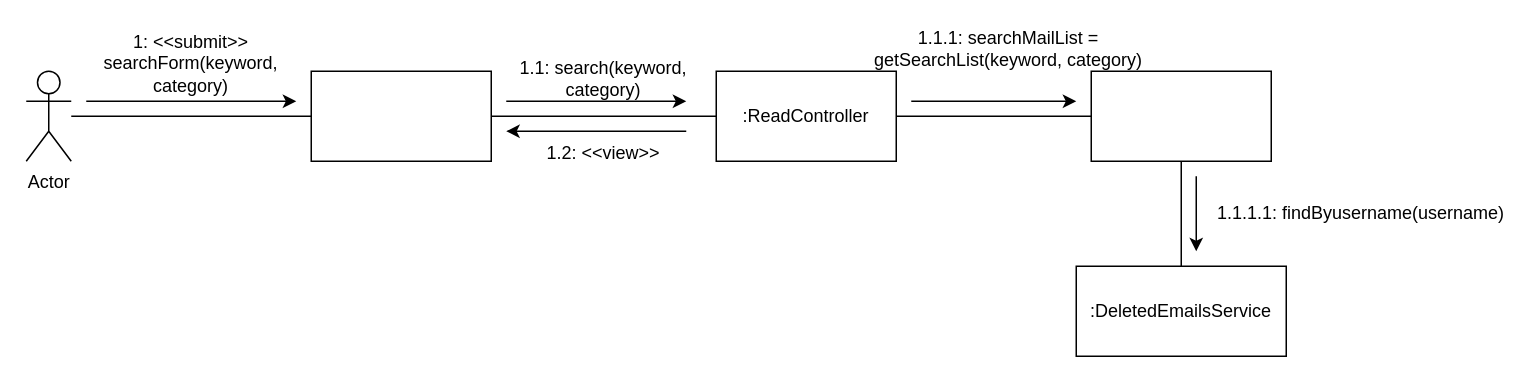
The diagram is 1538 pixels wide and 383 high, and some of its shapes have lost their labels. Here are the shapes that lost their labels. From the top down, the box of each, then its label:
(310, 70, 491, 161): :main_menu
(1090, 70, 1271, 161): Pop3Agent
